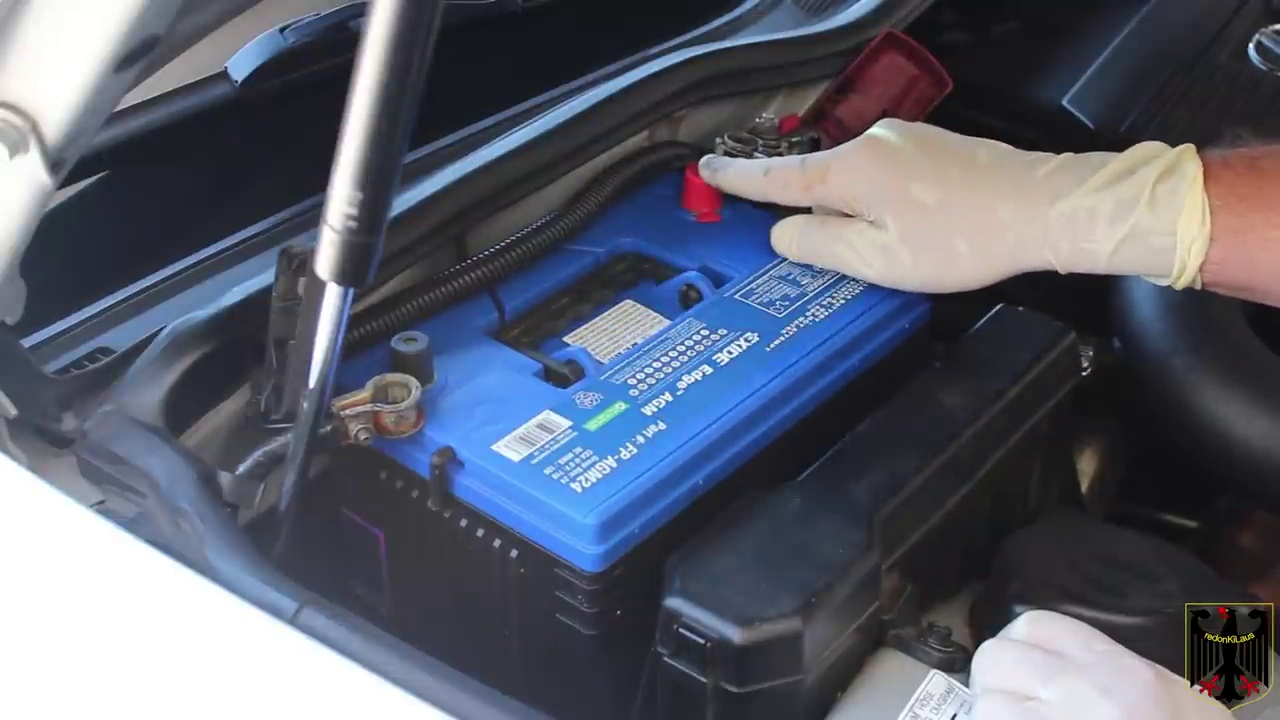battery: (321, 164, 939, 508)
pos_touched: (643, 33, 960, 237)
